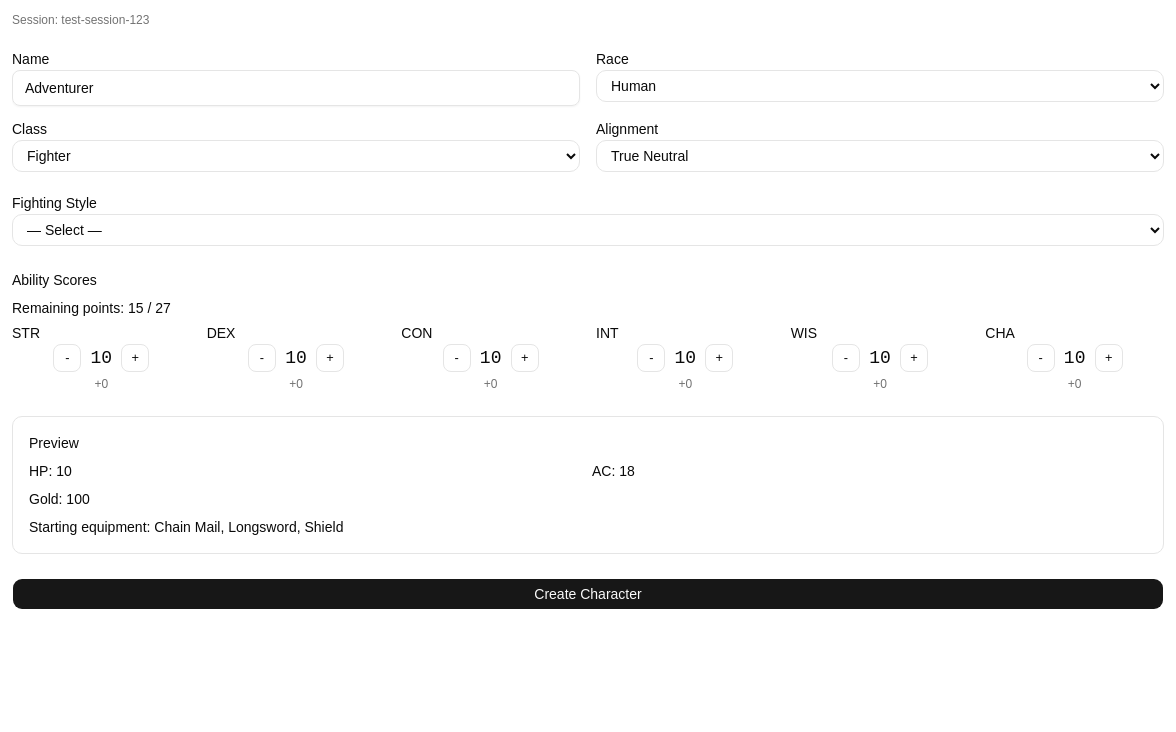
Test: CharacterForm — Point Buy › decrements score and increases remaining points
Click the button with test id "str-minus" at (67, 358), box [53, 344, 81, 372]
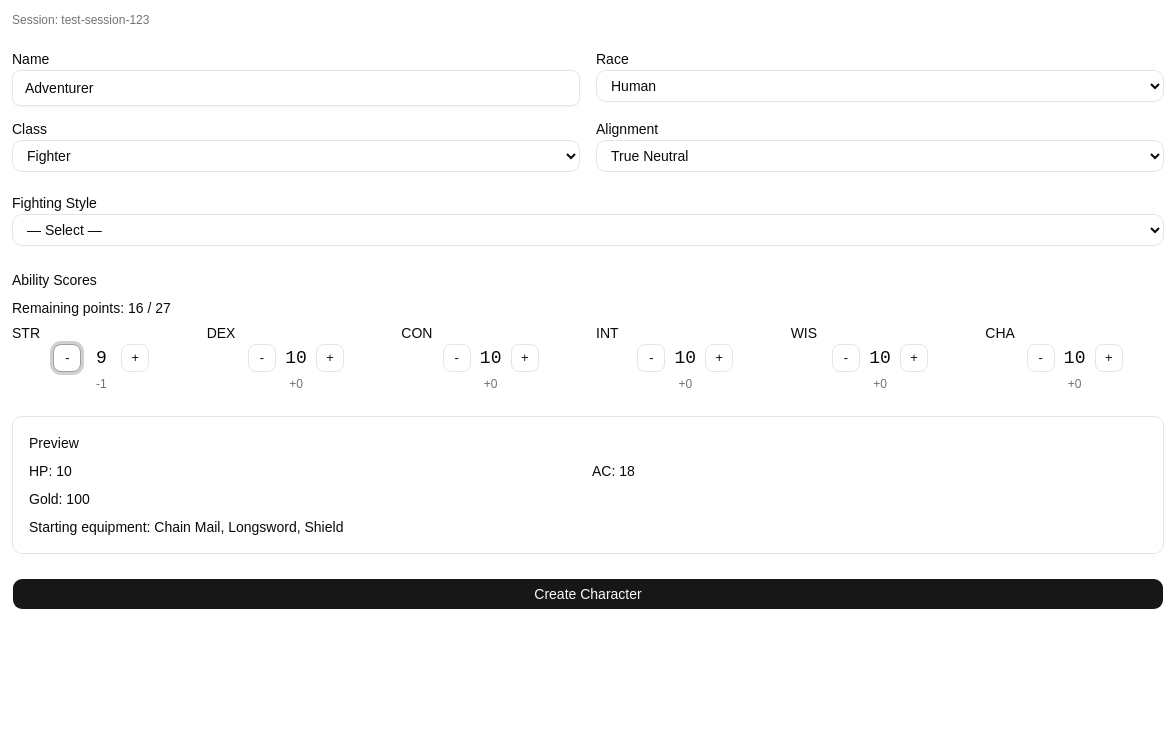
Expected: the text with test id "str-score" reads "9", [96, 348, 107, 368]
Expected: the text with test id "remaining-points" reads "16", [128, 300, 144, 316]
